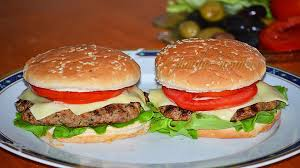hamburger: (153, 37, 289, 142), (18, 43, 151, 141)
